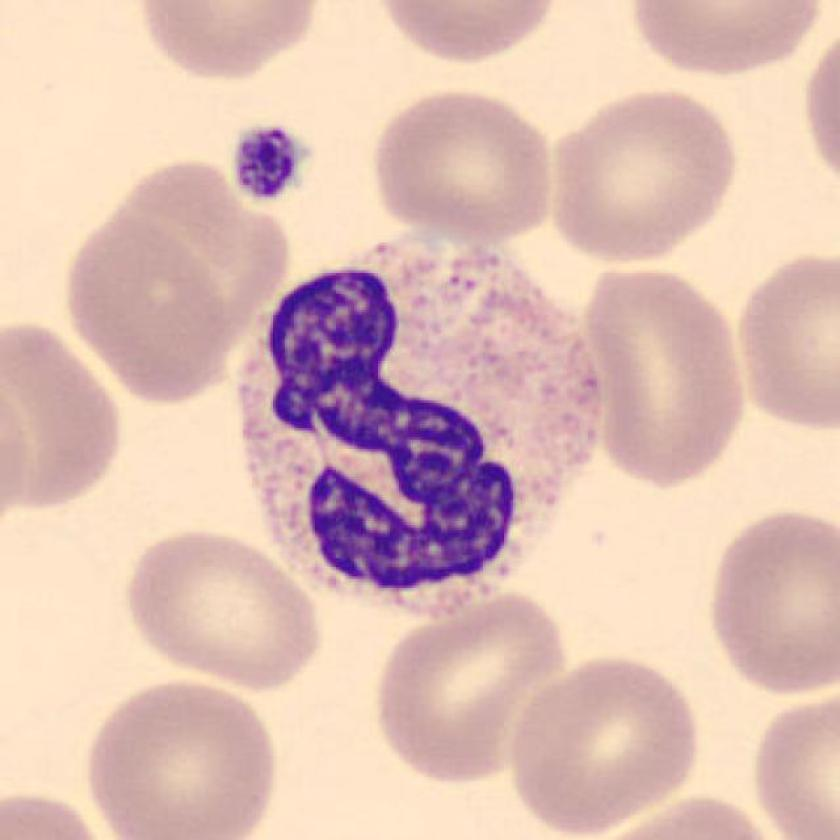neutrophil: (238, 233, 600, 618)
